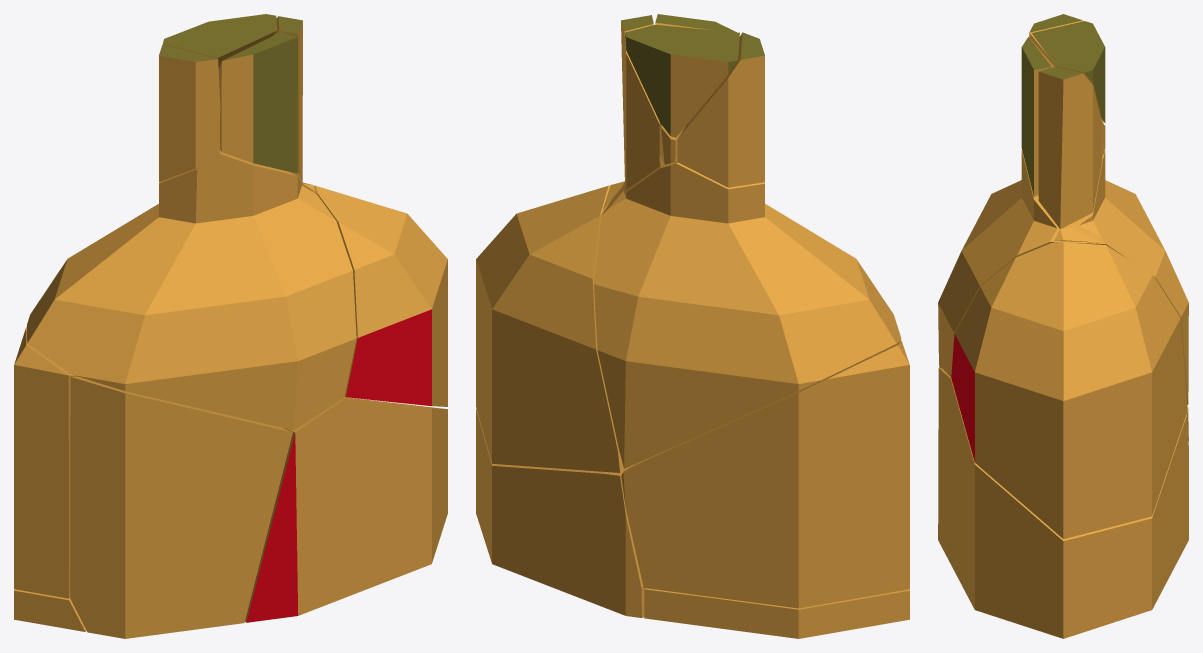
File: pandemonium_whiskey_bottle_fractured.fbx
3 views of the same model, side by side, from view 1: azimuth 30°, elevation 25°; view 2: azimuth 150°, elevation 25°; view 3: azimuth 270°, elevation 25° (orthographic). The views are drawn at different scales.
Parts seen in each view (by area): view 1: Cylinder.003_cell.026, Cylinder.003_cell.018, Cylinder.003_cell.024, Cylinder.003_cell.025, Cylinder.003_cell.022, Cylinder.003_cell.021, Cylinder.003_cell.020, Cylinder.003_cell.019, Cylinder.003_cell.023, Cylinder.003_cell.027; view 2: Cylinder.003_cell.026, Cylinder.003_cell.022, Cylinder.003_cell.025, Cylinder.003_cell.024, Cylinder.003_cell.020, Cylinder.003_cell.023, Cylinder.003_cell.019, Cylinder.003_cell.027, Cylinder.003_cell.021; view 3: Cylinder.003_cell.025, Cylinder.003_cell.024, Cylinder.003_cell.026, Cylinder.003_cell.027, Cylinder.003_cell.019, Cylinder.003_cell.021, Cylinder.003_cell.020.
Boxes of the visible parts, box(x1,y1,x2,y2) form: Cylinder.003_cell.026: box(27, 150, 356, 430); Cylinder.003_cell.018: box(70, 377, 292, 638); Cylinder.003_cell.024: box(245, 397, 447, 622); Cylinder.003_cell.025: box(310, 185, 447, 406); Cylinder.003_cell.022: box(14, 327, 79, 598); Cylinder.003_cell.021: box(218, 32, 297, 173); Cylinder.003_cell.020: box(159, 44, 220, 181); Cylinder.003_cell.019: box(163, 14, 277, 69); Cylinder.003_cell.023: box(14, 589, 86, 631); Cylinder.003_cell.027: box(273, 16, 315, 191); Cylinder.003_cell.026: box(594, 155, 901, 468); Cylinder.003_cell.022: box(621, 341, 909, 608); Cylinder.003_cell.025: box(476, 185, 623, 472); Cylinder.003_cell.024: box(476, 409, 646, 617); Cylinder.003_cell.020: box(677, 32, 764, 187); Cylinder.003_cell.023: box(644, 588, 909, 638); Cylinder.003_cell.019: box(625, 25, 739, 137); Cylinder.003_cell.027: box(602, 15, 659, 210); Cylinder.003_cell.021: box(655, 14, 736, 164); Cylinder.003_cell.025: box(951, 242, 1187, 539); Cylinder.003_cell.024: box(938, 368, 1188, 638); Cylinder.003_cell.026: box(938, 150, 1188, 404); Cylinder.003_cell.027: box(1038, 67, 1102, 242); Cylinder.003_cell.019: box(1032, 21, 1105, 122); Cylinder.003_cell.021: box(1021, 37, 1105, 197); Cylinder.003_cell.020: box(1029, 14, 1103, 123).
Size of the model in its own units: 49.34 by 57.49 by 26.48.
